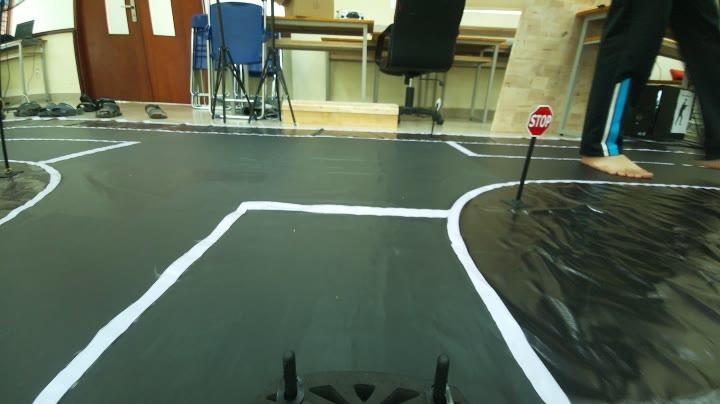stop: (524, 100, 556, 140)
